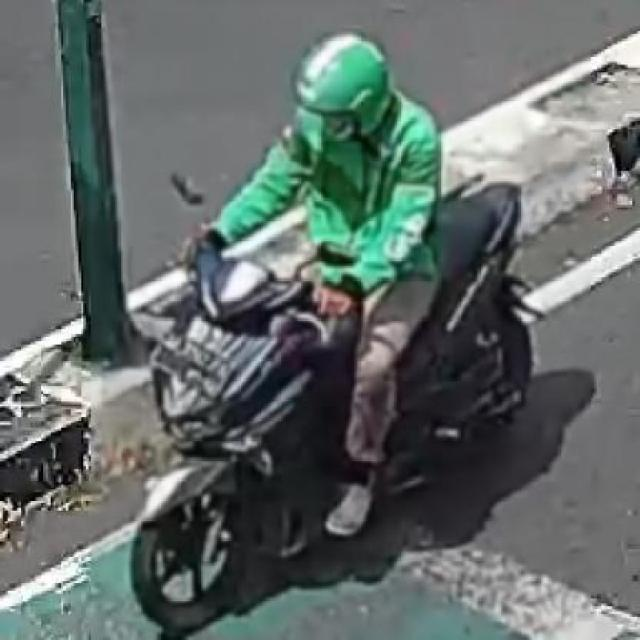helmet: (274, 35, 404, 145)
motorcycle: (102, 22, 546, 640)
